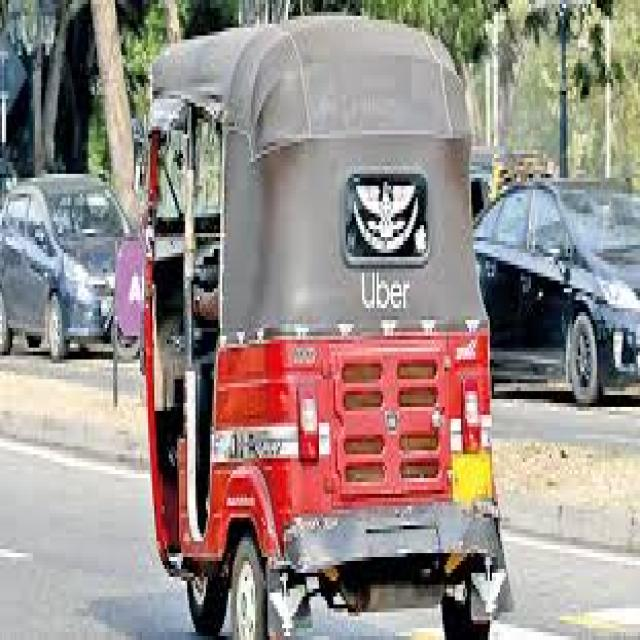car: (473, 178, 638, 403), (0, 174, 128, 363)
three wheeler: (144, 16, 504, 640)
